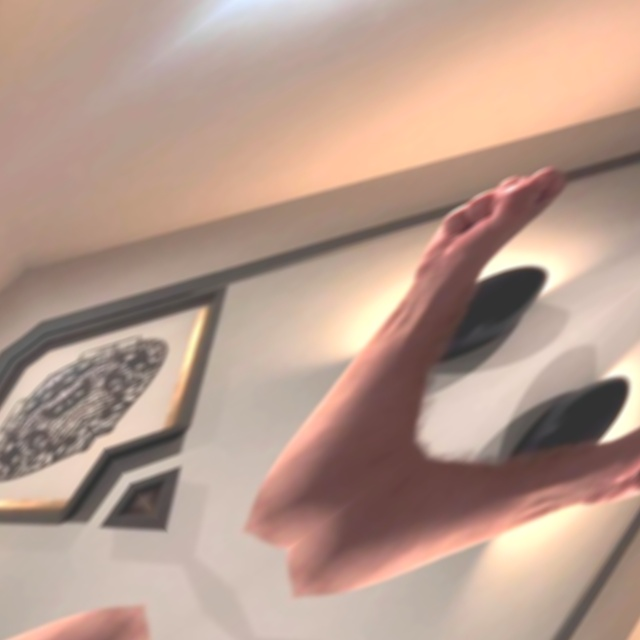Rock: (386, 125, 597, 312)
